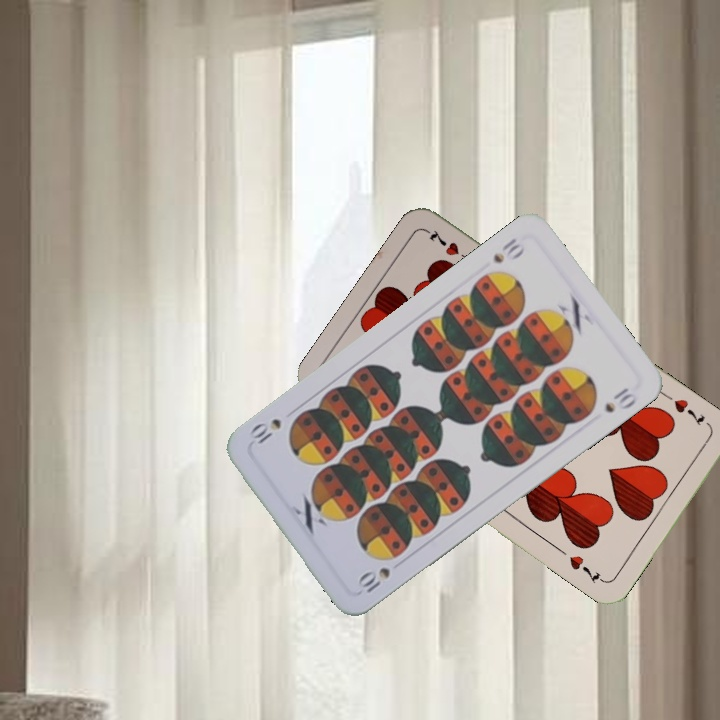H7: (669, 394, 708, 429)
S10: (489, 233, 528, 266), (356, 563, 393, 596)
